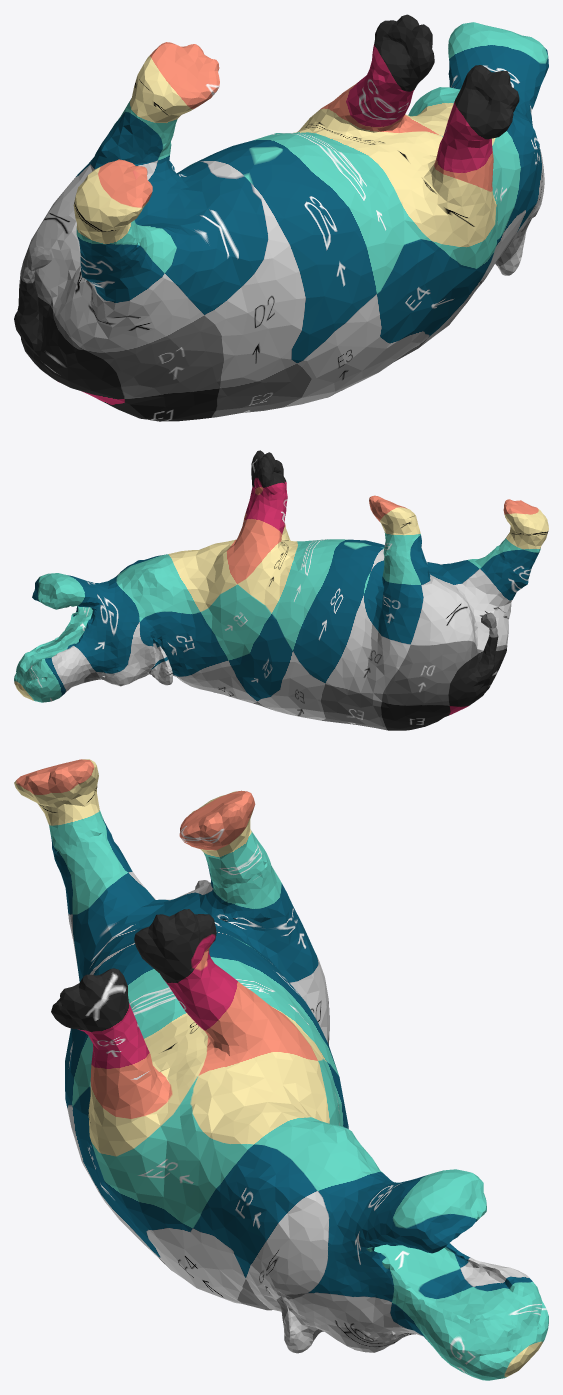
The model's file is horse_08-hippo_02.obj.
The picture shows the model from 3 angles, top to bottom: view 1: azimuth 30°, elevation 25°; view 2: azimuth 150°, elevation 25°; view 3: azimuth 270°, elevation 25°; orthographic projection. The views are drawn at different scales.
Parts seen in each view (by area): view 1: horse_08-hippo_02_export; view 2: horse_08-hippo_02_export; view 3: horse_08-hippo_02_export.
Boxes of the visible parts, x1,y1,x2,y2 form: horse_08-hippo_02_export: [14, 14, 548, 421]; horse_08-hippo_02_export: [14, 450, 548, 730]; horse_08-hippo_02_export: [14, 759, 548, 1380].
Size of the model in its own units: 0.8747 by 0.4839 by 0.5882.
